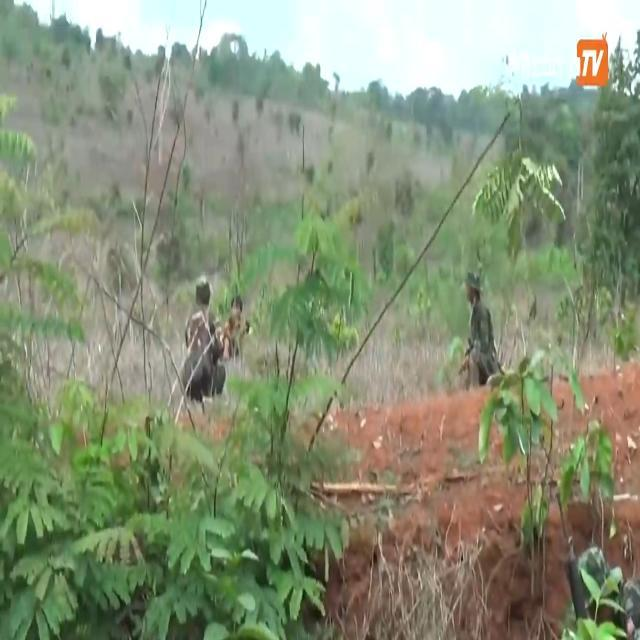MIL_Pax: (182, 278, 225, 401), (462, 271, 500, 387), (222, 296, 249, 360)
